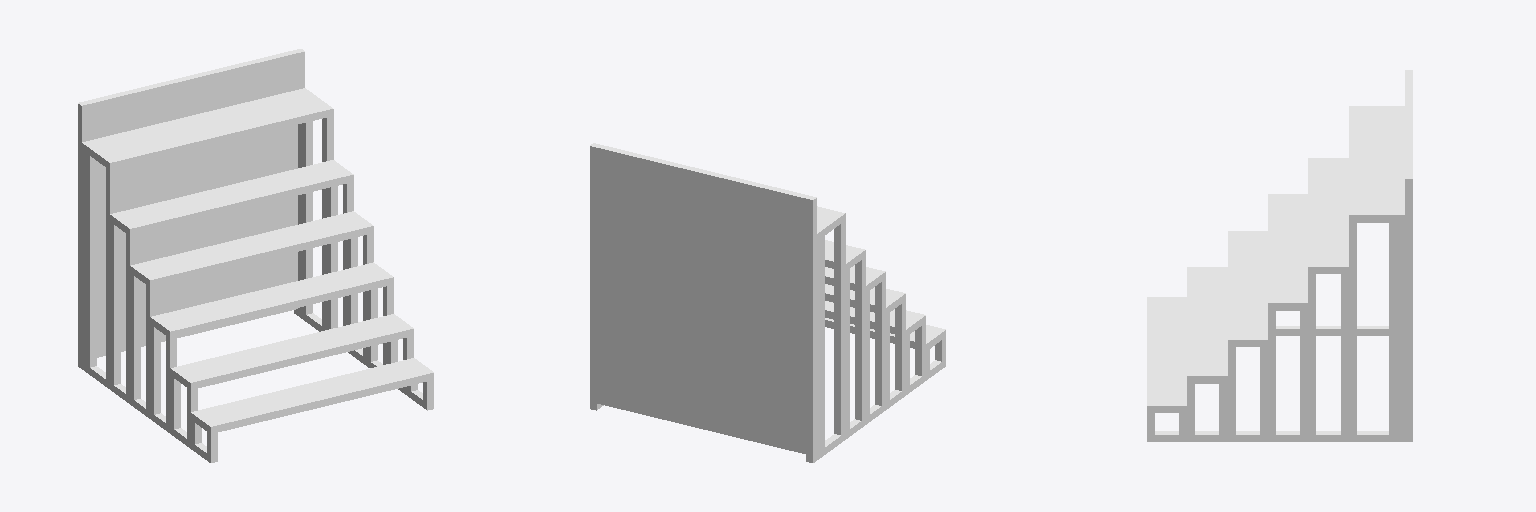
File: gradas.obj
3 renders of one model, left to right at view 1: azimuth 30°, elevation 25°; view 2: azimuth 150°, elevation 25°; view 3: azimuth 270°, elevation 25°, orthographic.
Parts seen in each view (by area): view 1: gradas; view 2: gradas; view 3: gradas.
Boxes of the visible parts, x1,y1,x2,y2 form: gradas: [78, 49, 433, 462]; gradas: [590, 143, 945, 462]; gradas: [1147, 70, 1412, 441].
Size of the model in its own units: 4.69 by 5.27 by 4.84.